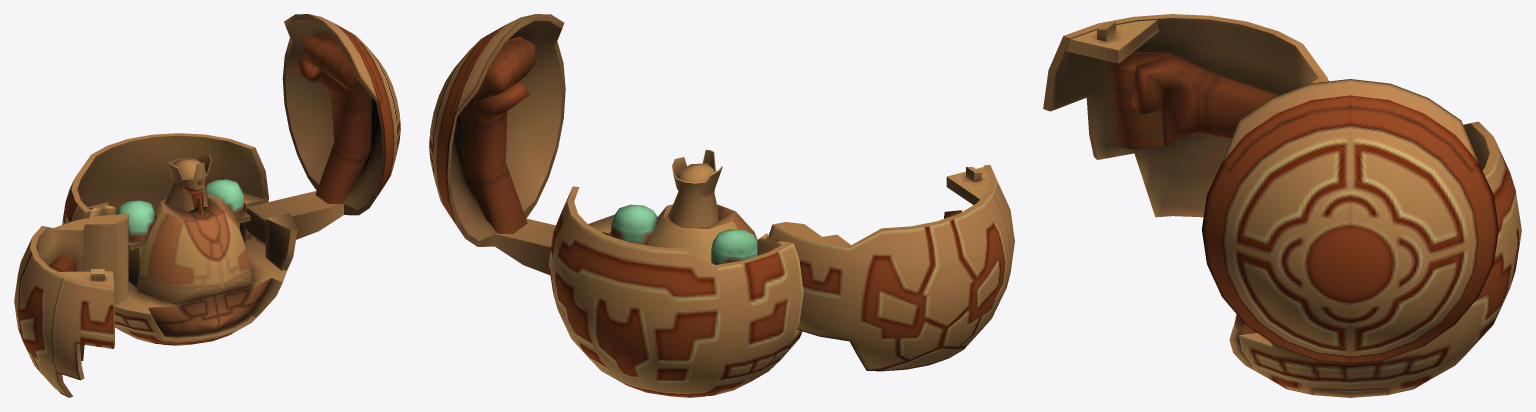
File: gorem_subterra.glb
3 views of the same model, side by side, from view 1: azimuth 30°, elevation 25°; view 2: azimuth 150°, elevation 25°; view 3: azimuth 270°, elevation 25° (orthographic). The views are drawn at different scales.
Parts seen in each view (by area): view 1: Mesh_0027.rip.010, Mesh_0029.rip.010, Mesh_0031.rip.010; view 2: Mesh_0027.rip.010, Mesh_0031.rip.010, Mesh_0029.rip.010; view 3: Mesh_0029.rip.010, Mesh_0031.rip.010, Mesh_0027.rip.010, Mesh_0033.rip.010.
Part boxes in pixels (<box>): Mesh_0027.rip.010: <box>62,133,297,345</box>; Mesh_0029.rip.010: <box>245,14,400,243</box>; Mesh_0031.rip.010: <box>14,214,128,397</box>; Mesh_0027.rip.010: <box>548,150,803,397</box>; Mesh_0031.rip.010: <box>769,164,1014,371</box>; Mesh_0029.rip.010: <box>429,14,565,274</box>; Mesh_0029.rip.010: <box>1202,79,1498,363</box>; Mesh_0031.rip.010: <box>1043,14,1328,217</box>; Mesh_0027.rip.010: <box>1229,121,1521,394</box>; Mesh_0033.rip.010: <box>1287,389,1413,397</box>.
Size of the model in its own units: 5.8 by 3.75 by 3.99.
5 materials, 5 textured.
